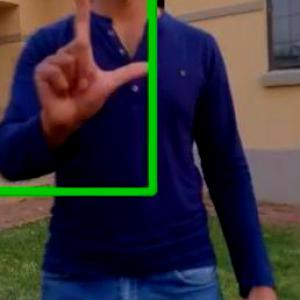land_hand: (33, 0, 159, 141)
